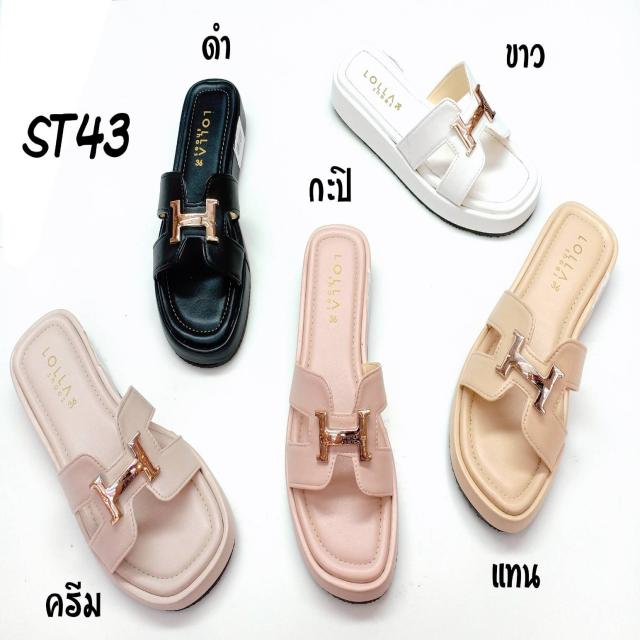black: (157, 77, 247, 350)
cream: (18, 313, 228, 606)
kapi: (298, 231, 395, 603)
tan: (453, 204, 613, 536)
white: (331, 44, 537, 235)
